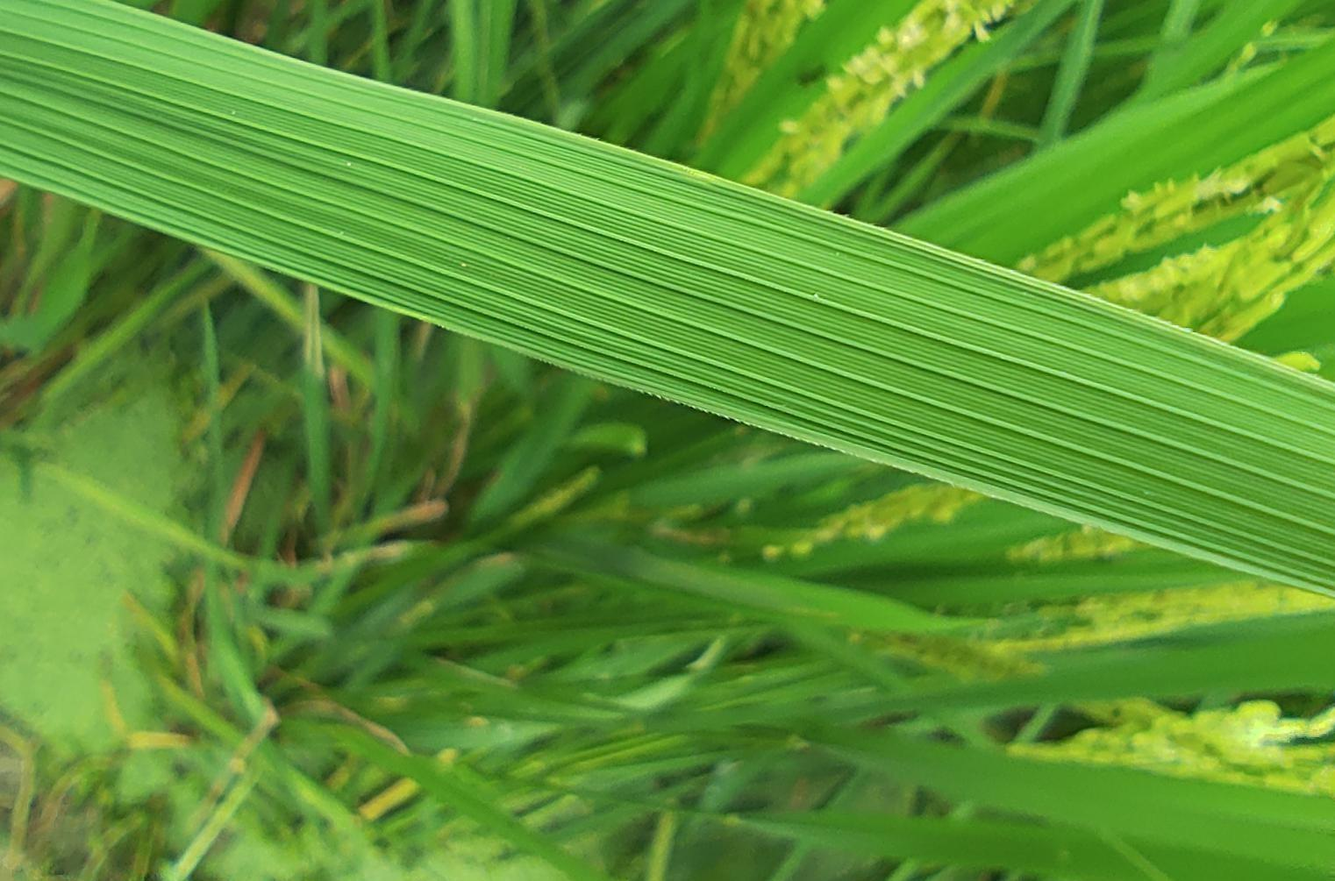Healthy: (0, 0, 1334, 593)
